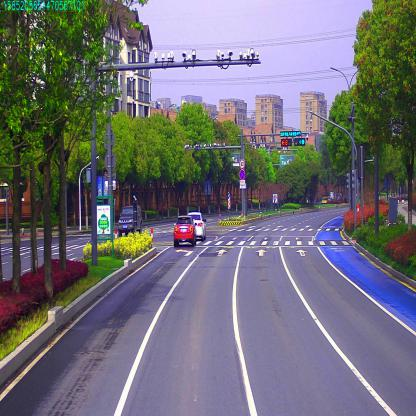traffic-light: (280, 128, 302, 137), (282, 140, 292, 147), (296, 139, 305, 146)
